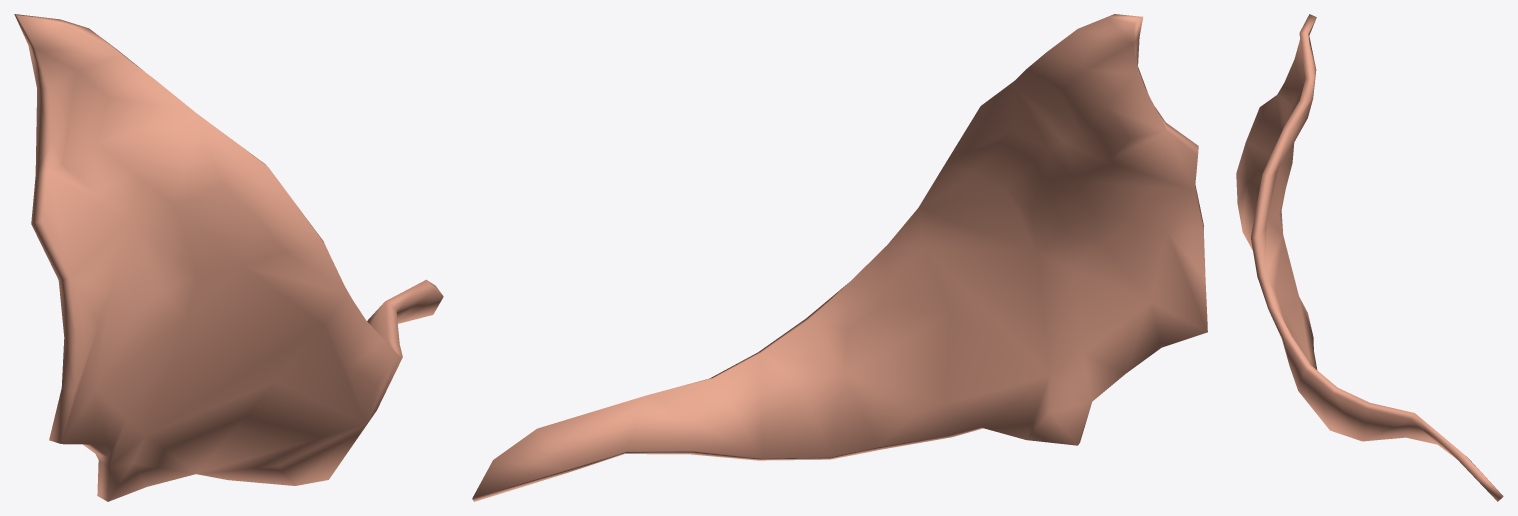
Rendered from visceras-meso-appendix.glb.
3 views of the same model, side by side, from view 1: azimuth 30°, elevation 25°; view 2: azimuth 150°, elevation 25°; view 3: azimuth 270°, elevation 25° (orthographic). The views are drawn at different scales.
Visible parts, largest first — view 1: Meso-appendix; view 2: Meso-appendix; view 3: Meso-appendix.
Boxes of the visible parts, bbox=[...] form: Meso-appendix: bbox=[14, 14, 443, 501]; Meso-appendix: bbox=[472, 14, 1207, 501]; Meso-appendix: bbox=[1236, 14, 1503, 501].
Bounding box in the file's own units: 0.0495 × 0.044 × 0.0329.
